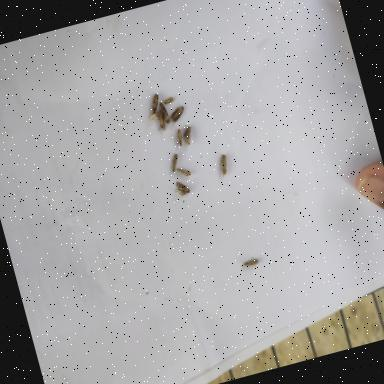pbw: (143, 93, 164, 119), (147, 108, 168, 134), (167, 102, 187, 124), (180, 124, 197, 146), (218, 153, 232, 178), (158, 100, 172, 125), (174, 179, 192, 198), (168, 153, 182, 174), (173, 128, 185, 148), (176, 165, 192, 179), (243, 258, 260, 268), (162, 96, 175, 106)
